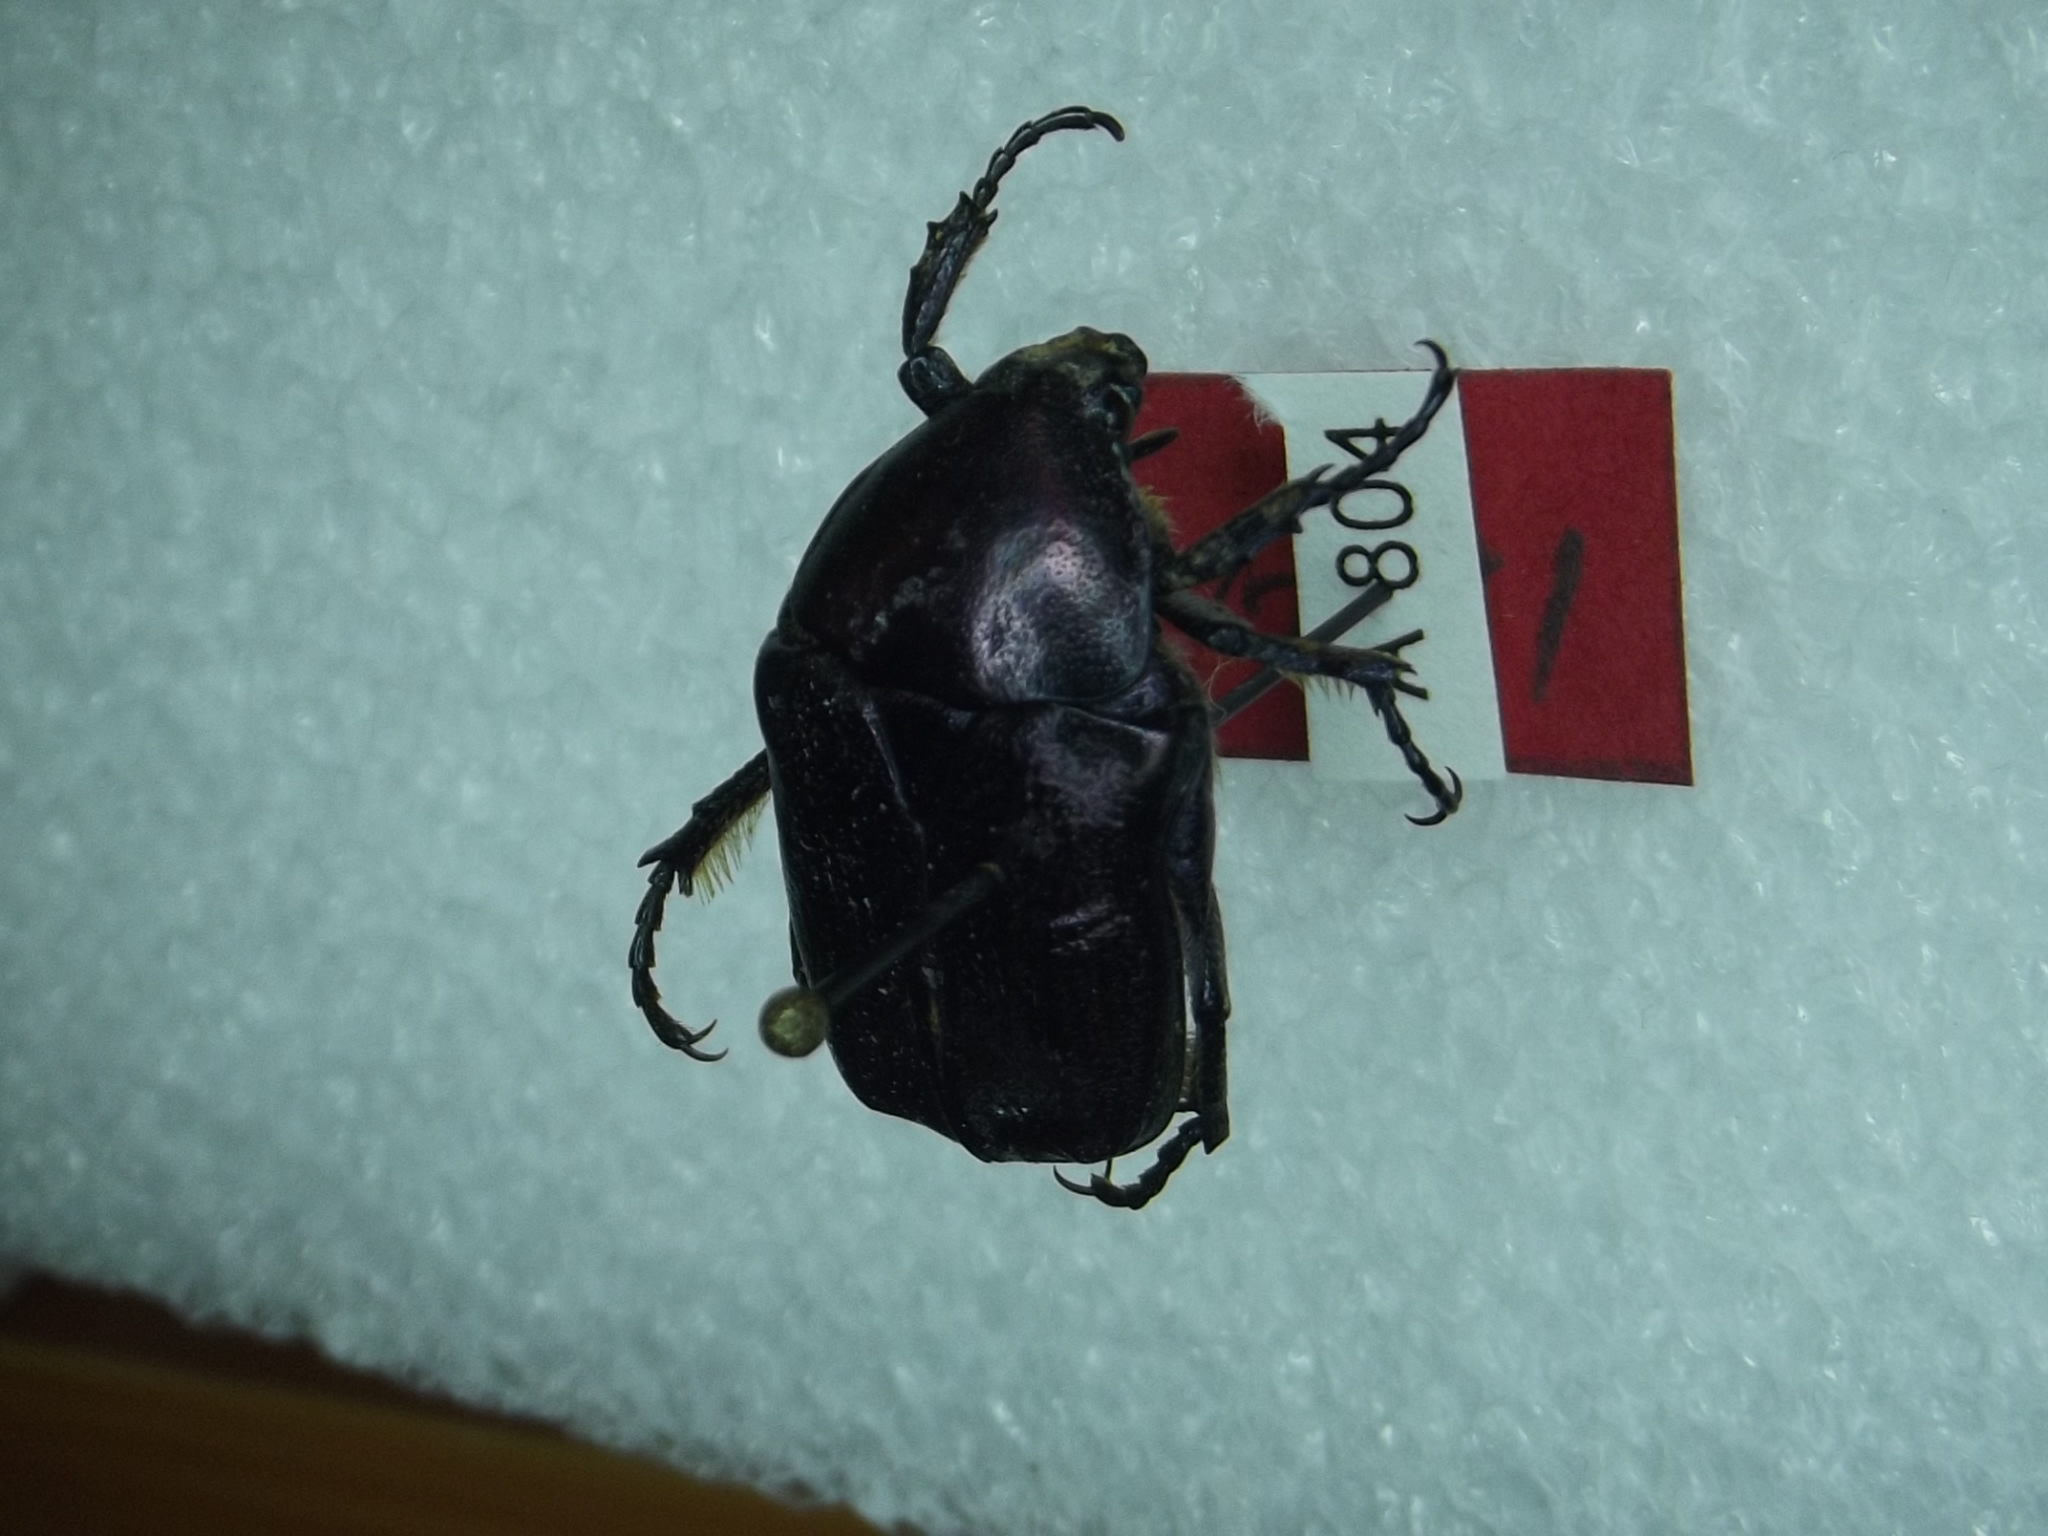Protaetia_besucheti: (581, 63, 1479, 1258)
